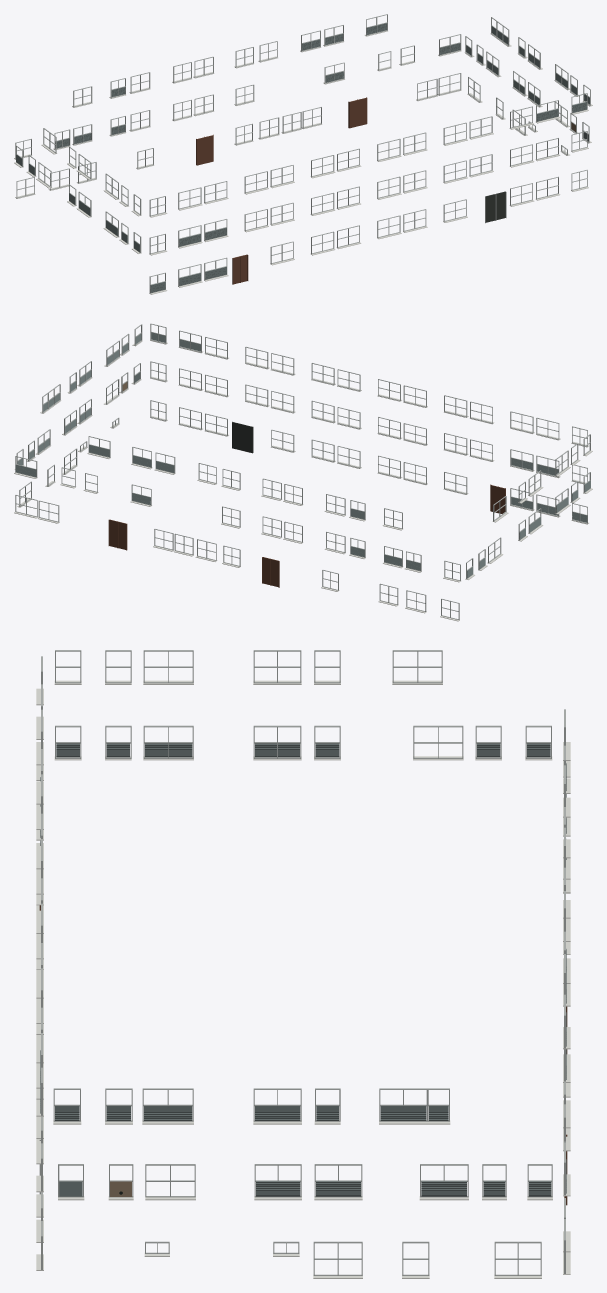
Rendered from ventanas.glb.
3 renders of one model, top to bottom at view 1: azimuth 30°, elevation 25°; view 2: azimuth 150°, elevation 25°; view 3: azimuth 270°, elevation 25°, orthographic. The views are drawn at different scales.
Visible parts, largest first — view 1: Aged aluminium window frames, Fresh cream trim, V011 photographed blue grey louvres, Brown painted service access, Unlit interior walls; view 2: Aged aluminium window frames, Fresh cream trim, V011 photographed blue grey louvres, Brown painted service access, Unlit interior walls; view 3: Aged aluminium window frames, Fresh cream trim, V011 photographed blue grey louvres.
Boxes of the visible parts, x1,y1,x2,y2 form: Aged aluminium window frames: [15, 14, 590, 293]; Fresh cream trim: [14, 30, 592, 294]; V011 photographed blue grey louvres: [16, 23, 589, 292]; Brown painted service access: [196, 97, 367, 284]; Unlit interior walls: [485, 191, 505, 222]; Aged aluminium window frames: [15, 323, 590, 619]; Fresh cream trim: [14, 340, 592, 621]; V011 photographed blue grey louvres: [15, 332, 590, 578]; Brown painted service access: [108, 484, 505, 587]; Unlit interior walls: [232, 422, 252, 453]; Aged aluminium window frames: [39, 650, 565, 1275]; Fresh cream trim: [36, 680, 570, 1278]; V011 photographed blue grey louvres: [40, 743, 566, 1196].
Size of the model in its own units: 45.88 by 10.11 by 23.38.
